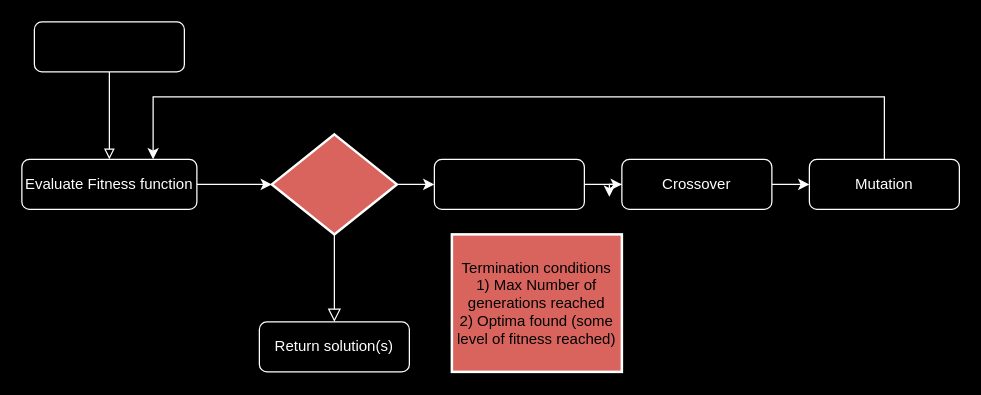
Image size: 981x395. Some labels were removed from this diagram. The shapes that lost their labels are listed below. From the top down, each one's centre as x and y in pixels, then its label:
pixel 108 46: Initialize solution population
pixel 334 183: Terminate?
pixel 508 183: Selection
